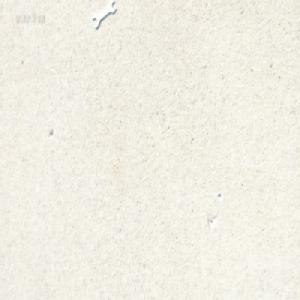Wrench: (92, 2, 115, 30)
